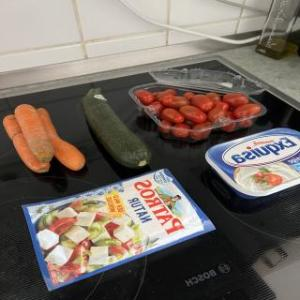carrot: (28, 102, 74, 176), (1, 108, 49, 170)
tomato: (133, 78, 261, 132)
zucchini: (80, 82, 158, 170)
